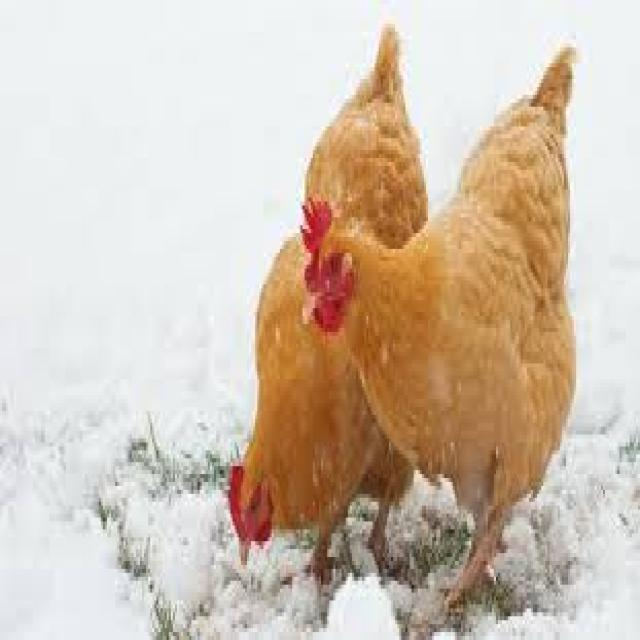Chicken: (190, 52, 432, 564), (299, 164, 591, 532)
